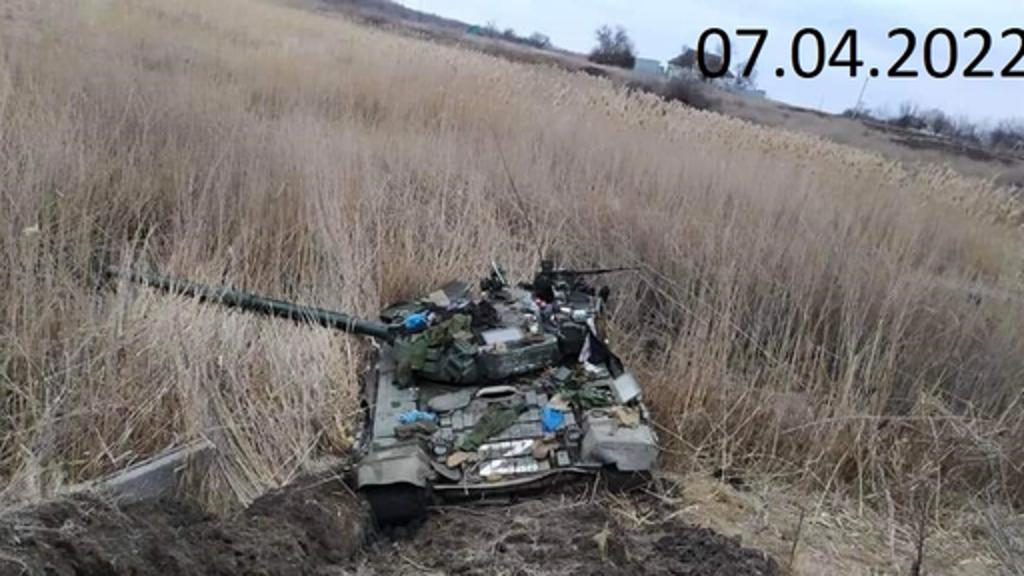TANK: (98, 248, 670, 528)
